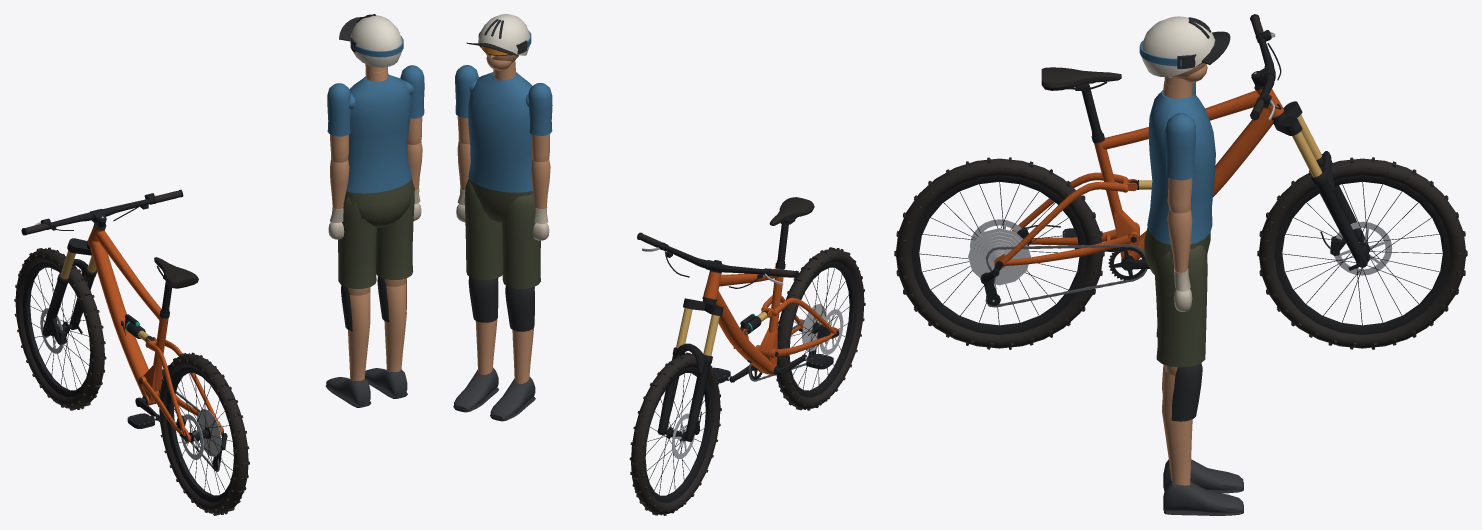
File: mtb.glb
3 renders of one model, left to right at view 1: azimuth 30°, elevation 25°; view 2: azimuth 150°, elevation 25°; view 3: azimuth 270°, elevation 25°, orthographic. The views are drawn at different scales.
Parts seen in each view (by area): view 1: r_torso, wheel_rear, wheel_front, frame, r_thigh_l, r_head, r_thigh_r, steer, r_shin_l, r_shin_r, swingarm, r_upperarm_l (+6 smaller); view 2: r_torso, wheel_rear, wheel_front, frame, r_thigh_l, steer, r_thigh_r, r_head, r_shin_r, r_shin_l, fork_lowers, r_upperarm_l (+7 smaller); view 3: wheel_rear, wheel_front, frame, r_torso, r_thigh_r, r_head, swingarm, r_shin_r, steer, r_upperarm_r, fork_lowers, r_foot_r (+4 smaller).
Part boxes in pixels (left/top/right/bottom): r_torso: left=344, top=68, right=413, bottom=227; wheel_rear: left=158, top=352, right=249, bottom=515; wheel_front: left=14, top=247, right=106, bottom=410; frame: left=87, top=223, right=198, bottom=405; r_thigh_l: left=338, top=196, right=376, bottom=295; r_head: left=339, top=14, right=403, bottom=80; r_thigh_r: left=376, top=181, right=414, bottom=286; steer: left=21, top=189, right=183, bottom=278; r_shin_l: left=341, top=285, right=370, bottom=381; r_shin_r: left=377, top=276, right=406, bottom=372; swingarm: left=139, top=337, right=227, bottom=470; r_upperarm_l: left=327, top=83, right=350, bottom=162; r_torso: left=468, top=68, right=532, bottom=223; wheel_rear: left=776, top=247, right=865, bottom=410; wheel_front: left=629, top=352, right=721, bottom=515; frame: left=702, top=197, right=814, bottom=375; r_thigh_l: left=501, top=194, right=540, bottom=288; steer: left=637, top=232, right=798, bottom=355; r_thigh_r: left=464, top=179, right=502, bottom=279; r_head: left=466, top=14, right=531, bottom=80; r_shin_r: left=468, top=276, right=498, bottom=375; r_shin_l: left=505, top=285, right=534, bottom=383; fork_lowers: left=657, top=343, right=712, bottom=441; r_upperarm_l: left=528, top=83, right=552, bottom=161; wheel_rear: left=894, top=157, right=1104, bottom=349; wheel_front: left=1257, top=157, right=1467, bottom=349; frame: left=1041, top=67, right=1285, bottom=260; r_torso: left=1144, top=81, right=1215, bottom=274; r_thigh_r: left=1154, top=245, right=1207, bottom=375; r_head: left=1139, top=16, right=1230, bottom=98; swingarm: left=980, top=172, right=1139, bottom=305; r_shin_r: left=1162, top=363, right=1202, bottom=485; steer: left=1250, top=14, right=1322, bottom=177; r_upperarm_r: left=1165, top=113, right=1195, bottom=213; fork_lowers: left=1311, top=151, right=1367, bottom=270; r_foot_r: left=1163, top=479, right=1243, bottom=515.
Bounding box in the file's own units: 1.82 × 1.79 × 1.93.
